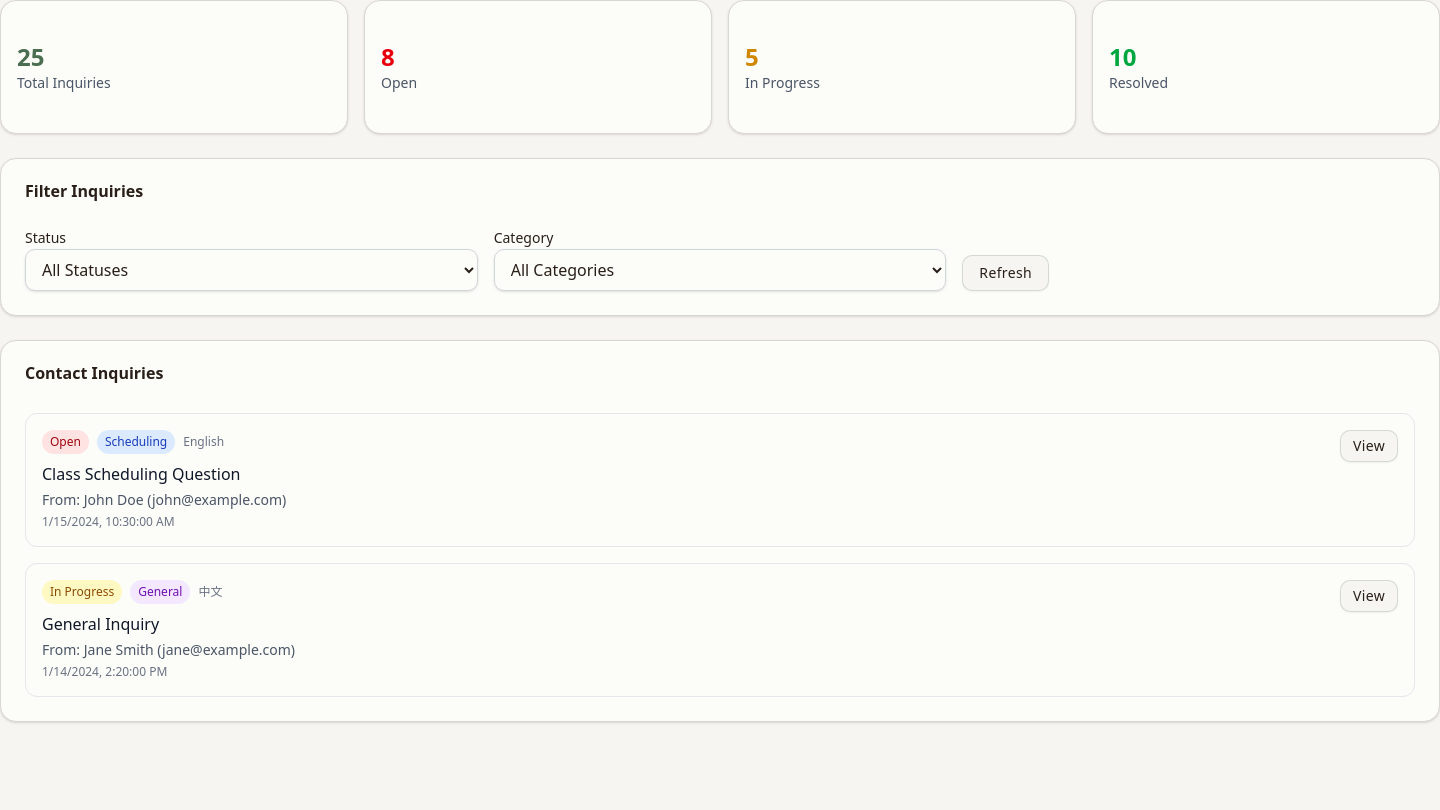
Scenario: InquiriesClient › Inquiry Detail Modal › should close modal when cancel button is clicked
Click the button "View" in the row of "English": (1369, 446) [1340,430,1398,462]
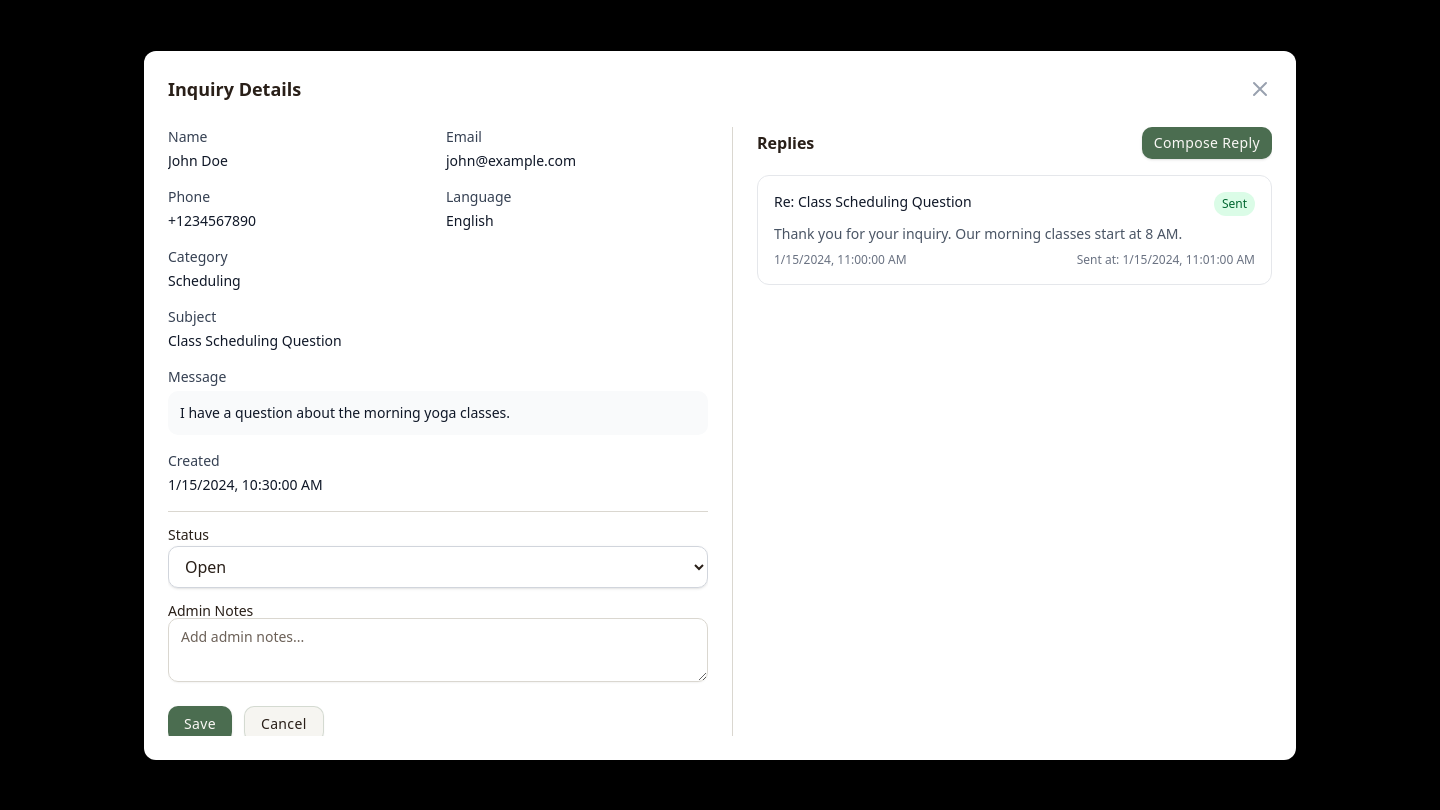
Now the heading "Inquiry Details" is shown, box [168,74,301,102]
Click the button "Cancel": (284, 724) [244,706,324,742]
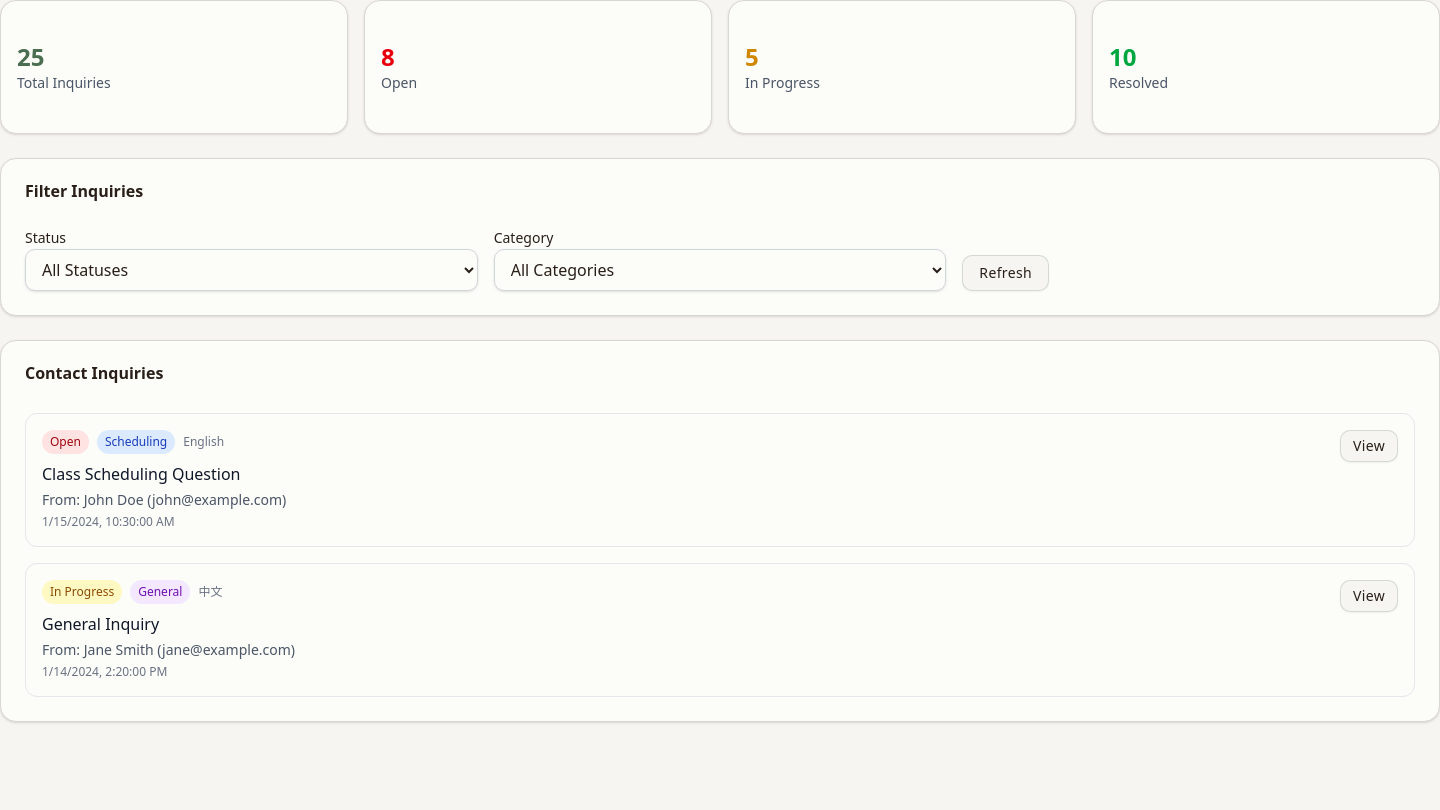
Now the heading "Inquiry Details" is gone
